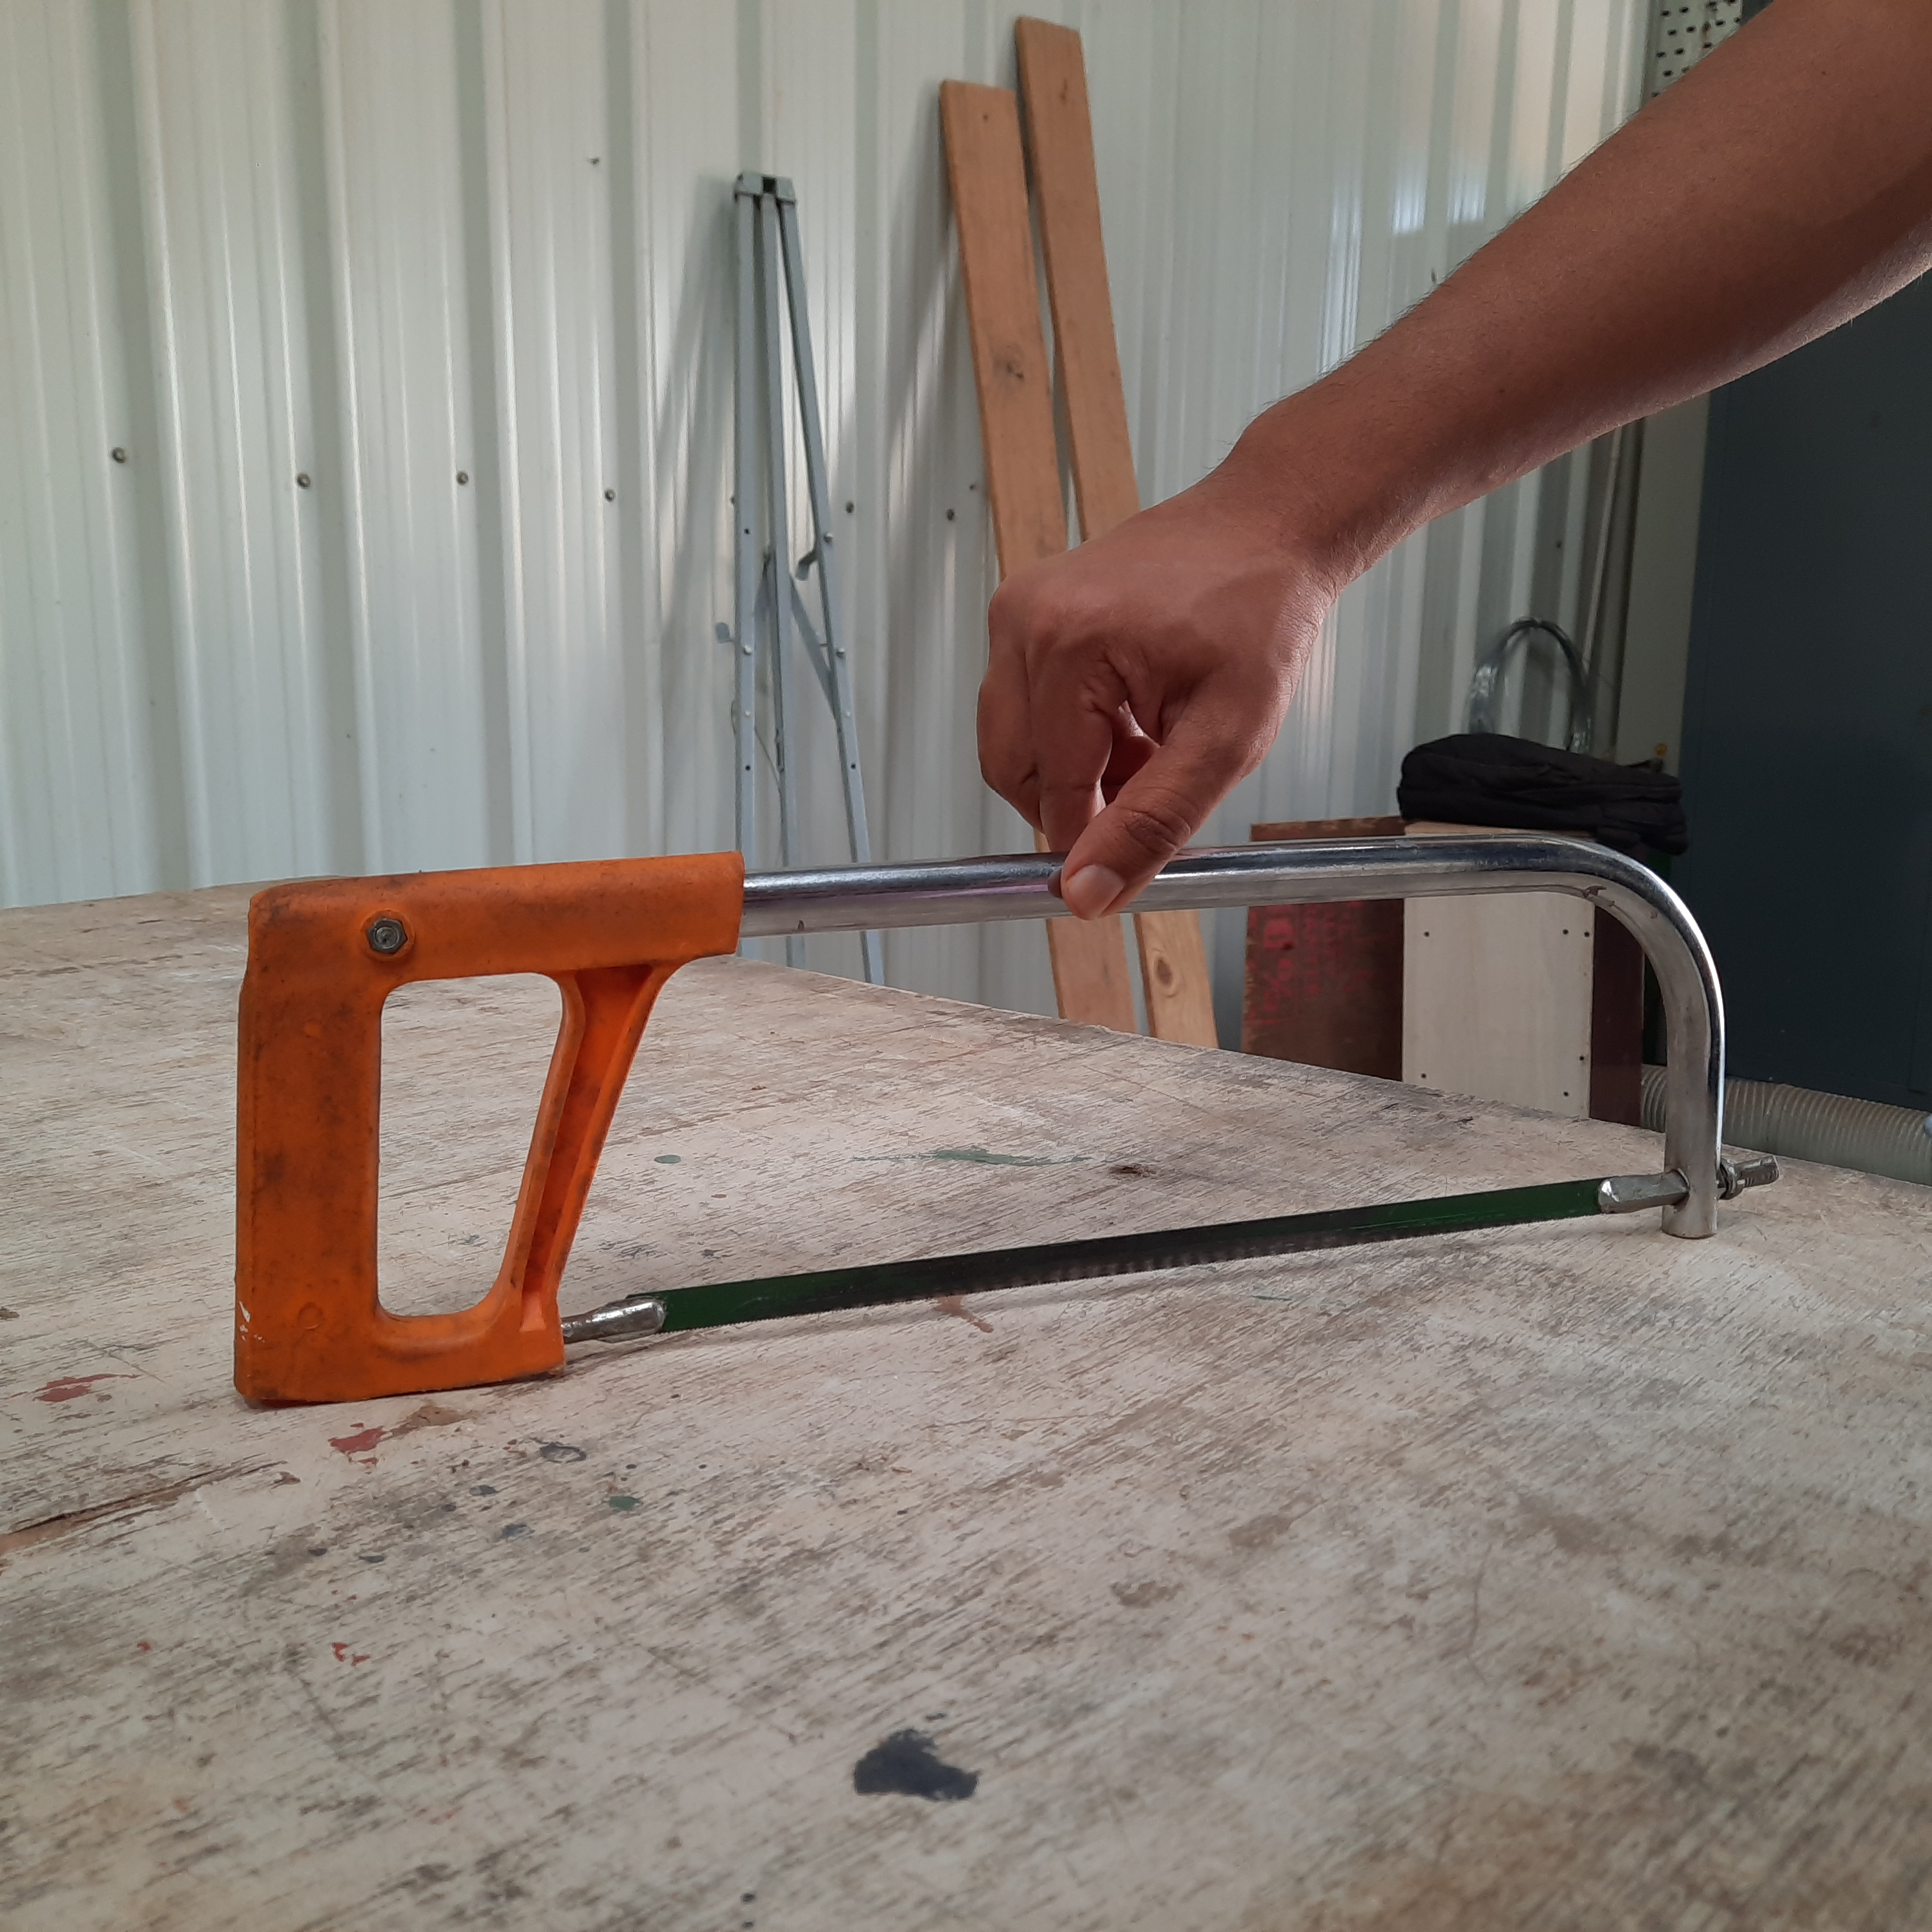Hexaframe: (173, 793, 1778, 1426)
